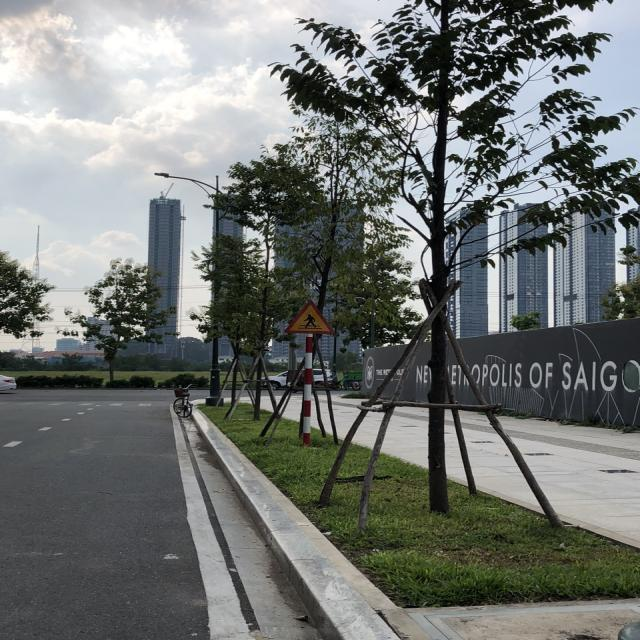Bien bao duong nguoi di bo cat ngang: (280, 296, 344, 339)
